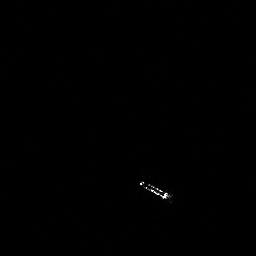ship: (140, 180, 168, 198)
